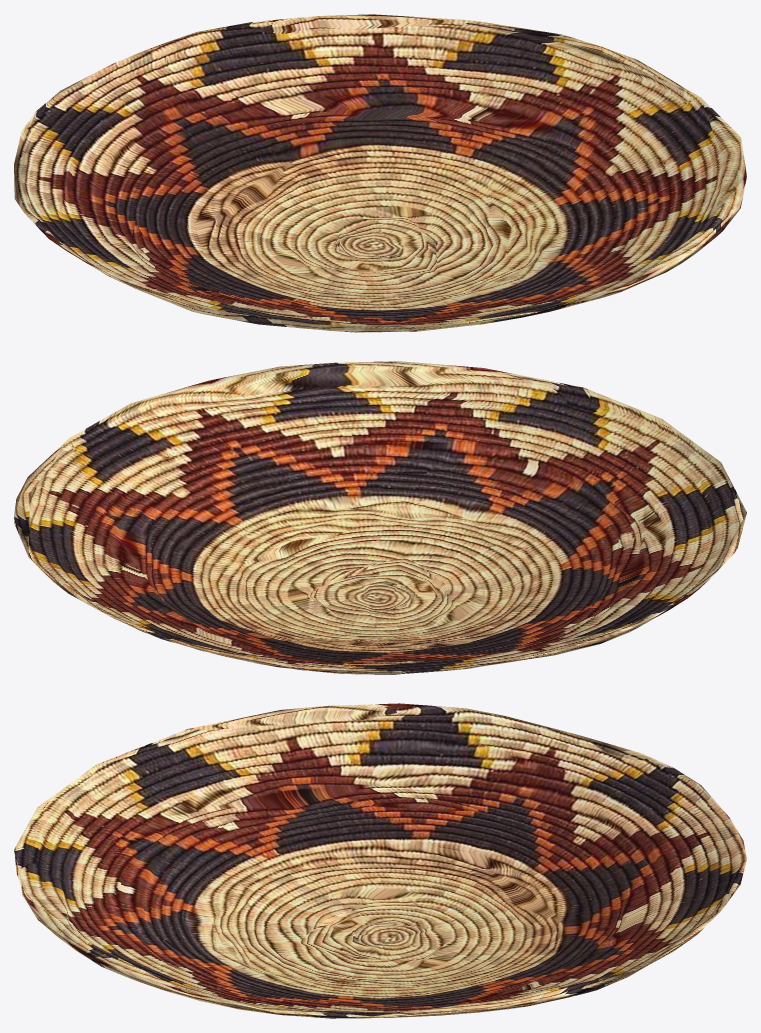
File: sefed-8-.fbx
3 views of the same model, one above another, from view 1: azimuth 30°, elevation 25°; view 2: azimuth 150°, elevation 25°; view 3: azimuth 270°, elevation 25° (orthographic).
Visible parts, largest first — view 1: sefed-8-; view 2: sefed-8-; view 3: sefed-8-.
Part boxes in pixels (<box>): sefed-8-: <box>14,14,746,332</box>; sefed-8-: <box>14,361,746,674</box>; sefed-8-: <box>14,703,746,1018</box>.
Bounding box in the file's own units: 37.68 × 4.9 × 37.77.
1 material, 1 textured.
